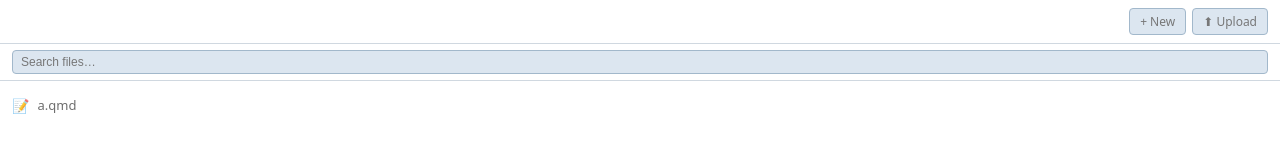
Test: FileSidebar full-text search › shows a no-matches state when the query returns nothing
Type "zzz" into the search field labelled "Search files" at (640, 62), box x1=12 y1=50 x2=1268 y2=74
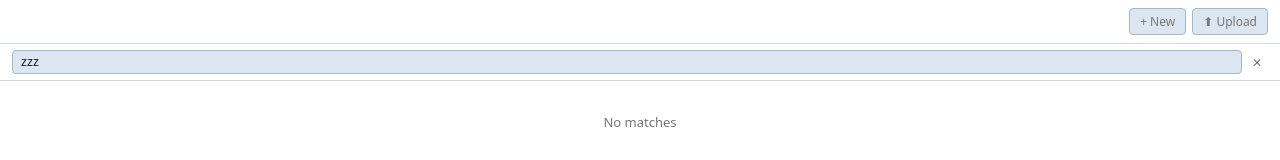
expect the text "No matches" is shown: met, box x1=603 y1=113 x2=676 y2=131
